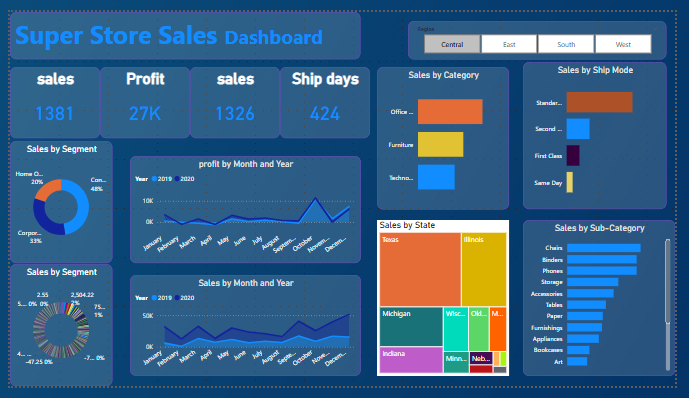

What the dashboard file says about the page in this screenshot:
{"tool":"powerbi","page":{"name":"Page 1","canvas":[1280,720],"ordinal":0},"visuals":[{"type":"clusteredBarChart","title":"Sales by Category","fields":{"Y":["Sum(SuperStore_Sales_Dataset.Sales)"],"Category":["SuperStore_Sales_Dataset.Category"]},"box":[705.6,105.6,254.4,273.6],"z":0},{"type":"clusteredBarChart","title":"Sales by Sub-Category","fields":{"Y":["Sum(SuperStore_Sales_Dataset.Sales)"],"Category":["SuperStore_Sales_Dataset.Sub-Category"]},"box":[986.4,400.8,292.8,300],"z":1000},{"type":"clusteredBarChart","title":"Sales by Ship Mode","fields":{"Y":["Sum(SuperStore_Sales_Dataset.Sales)"],"Category":["SuperStore_Sales_Dataset.Ship Mode"]},"box":[986.4,96,276,283.2],"z":2000},{"type":"stackedAreaChart","title":"Sales by Month and Year","fields":{"Y":["Sum(SuperStore_Sales_Dataset.Sales)"],"Series":["SuperStore_Sales_Dataset.Order Date.Variation.Date Hierarchy.Year"],"Category":["SuperStore_Sales_Dataset.Order Date.Variation.Date Hierarchy.Month"]},"box":[230.4,506.4,444,194.4],"z":3000},{"type":"stackedAreaChart","title":"profit by Month and Year","fields":{"Series":["SuperStore_Sales_Dataset.Order Date.Variation.Date Hierarchy.Year"],"Category":["SuperStore_Sales_Dataset.Order Date.Variation.Date Hierarchy.Month"],"Y":["Sum(SuperStore_Sales_Dataset.Profit)"]},"box":[230.4,276,444,206.4],"z":4000},{"type":"treemap","title":"Sales by State","fields":{"Group":["SuperStore_Sales_Dataset.State"],"Values":["Sum(SuperStore_Sales_Dataset.Sales)"]},"box":[705.6,400.8,254.4,300],"z":5000},{"type":"donutChart","title":"Sales by Segment","fields":{"Category":["SuperStore_Sales_Dataset.Segment"],"Y":["Sum(SuperStore_Sales_Dataset.Sales)"]},"box":[0,247.2,196.8,235.2],"z":6000},{"type":"textbox","box":[0,0,674.4,91.2],"z":7000},{"type":"slicer","fields":{"Values":["SuperStore_Sales_Dataset.Region"]},"box":[765.6,16.8,496.8,74.4],"z":9000},{"type":"card","title":"sales","fields":{"Values":["CountNonNull(SuperStore_Sales_Dataset.Order ID)"]},"box":[0,105.6,172.8,136.8],"z":10000},{"type":"card","title":"Profit","fields":{"Values":["Sum(SuperStore_Sales_Dataset.Profit)"]},"box":[172.8,105.6,172.8,136.8],"z":11000},{"type":"card","title":"sales","fields":{"Values":["Count(SuperStore_Sales_Dataset.Sales)"]},"box":[345.6,105.6,172.8,136.8],"z":12000},{"type":"card","title":"Ship days","fields":{"Values":["Count(SuperStore_Sales_Dataset.Ship Date)"]},"box":[518.4,105.6,172.8,136.8],"z":13000},{"type":"donutChart","title":"Sales by Segment","fields":{"Y":["Sum(SuperStore_Sales_Dataset.Sales)"],"Category":["SuperStore_Sales_Dataset.Profit"]},"box":[0,484.8,196.8,235.2],"z":13001}]}

Visuals, with their boxes in screenshot pixels (x1, y1, x2, y2), scaled from the page's 1280x720 canvas onto the 689x398 screenshot:
"Sales by Category" clusteredBarChart: bbox=(380, 58, 517, 210)
"Sales by Sub-Category" clusteredBarChart: bbox=(531, 222, 688, 387)
"Sales by Ship Mode" clusteredBarChart: bbox=(531, 53, 680, 210)
"Sales by Month and Year" stackedAreaChart: bbox=(124, 280, 363, 387)
"profit by Month and Year" stackedAreaChart: bbox=(124, 153, 363, 267)
"Sales by State" treemap: bbox=(380, 222, 517, 387)
"Sales by Segment" donutChart: bbox=(0, 137, 106, 267)
textbox: bbox=(0, 0, 363, 50)
slicer - SuperStore_Sales_Dataset.Region: bbox=(412, 9, 680, 50)
"sales" card: bbox=(0, 58, 93, 134)
"Profit" card: bbox=(93, 58, 186, 134)
"sales" card: bbox=(186, 58, 279, 134)
"Ship days" card: bbox=(279, 58, 372, 134)
"Sales by Segment" donutChart: bbox=(0, 268, 106, 397)
